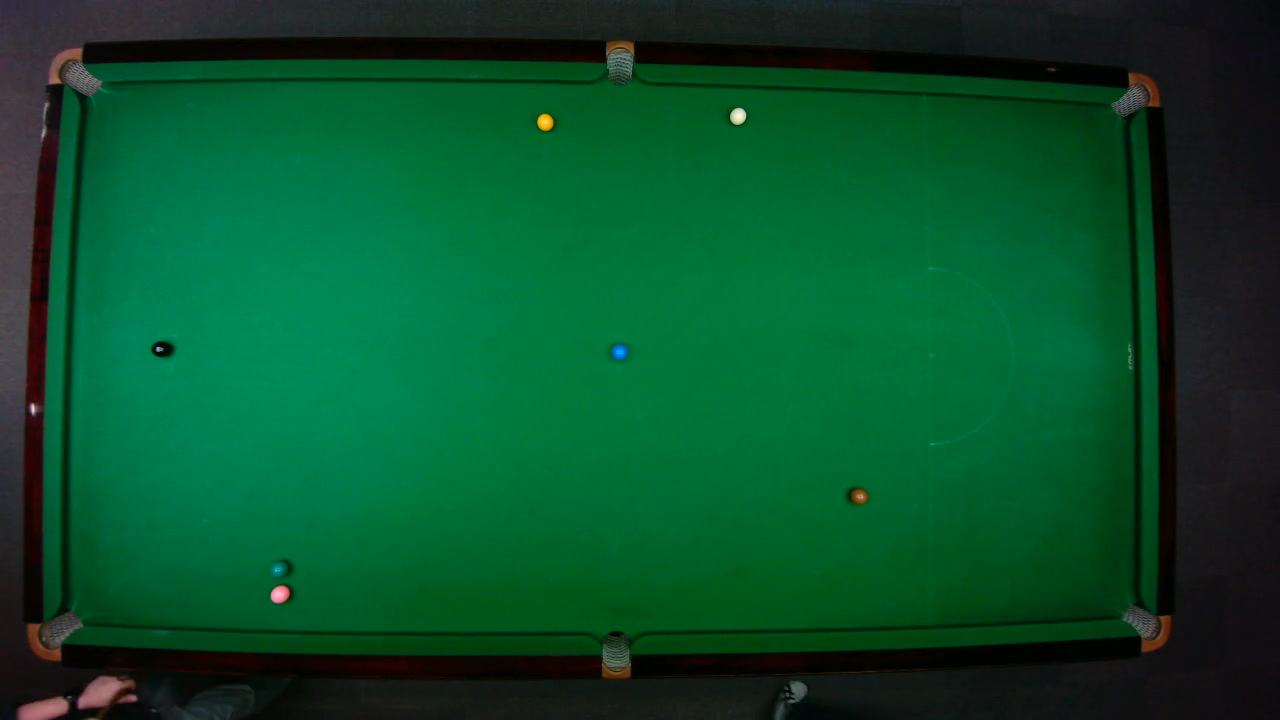bag: (25, 609, 84, 661), (45, 47, 102, 97), (1119, 603, 1171, 651), (1108, 71, 1161, 118), (600, 629, 630, 680), (605, 39, 633, 85)
black: (149, 339, 171, 357)
blue: (610, 342, 628, 360)
brown: (848, 487, 868, 504)
green: (268, 558, 289, 576)
pink: (268, 583, 290, 604)
white: (728, 106, 747, 125)
yellow: (535, 112, 554, 131)
zone: (927, 266, 1013, 445)
